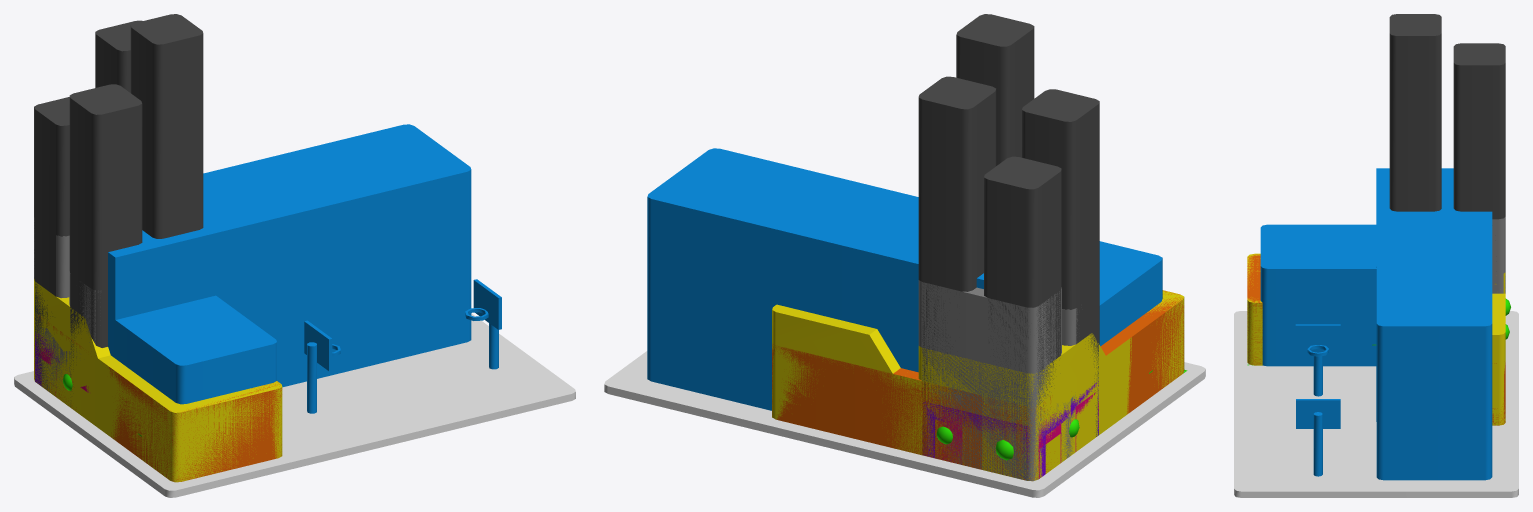
Rendered from Models.gltf.
The picture shows the model from 3 angles, left to right: view 1: azimuth 30°, elevation 25°; view 2: azimuth 150°, elevation 25°; view 3: azimuth 270°, elevation 25°; orthographic projection. The views are drawn at different scales.
Visible parts, largest first — view 1: School_2x3, Work_1x1, SCenter_1x2, RStore_1x2, Park_1x2, ABloc_1x1, GStore_1x1, APlex_1x1; view 2: School_2x3, Work_1x1, ABloc_1x1, SCenter_1x2, RStore_2x1, SCenter_2x1, RStore_1x2, GStore_1x1, Park_1x2, BStore_1x1, APlex_1x1, Park_1x1; view 3: School_2x3, Work_1x1, SCenter_1x2, SCenter_2x1, ABloc_1x1, Park_1x2, RStore_1x2, GStore_1x1.
Boxes of the visible parts, left/top/right/bottom form: School_2x3: left=14, top=124, right=575, bottom=497; Work_1x1: left=34, top=14, right=203, bottom=406; SCenter_1x2: left=18, top=279, right=301, bottom=496; RStore_1x2: left=34, top=315, right=282, bottom=481; Park_1x2: left=16, top=379, right=301, bottom=497; ABloc_1x1: left=34, top=218, right=100, bottom=438; GStore_1x1: left=14, top=332, right=88, bottom=429; APlex_1x1: left=16, top=327, right=76, bottom=409; School_2x3: left=604, top=148, right=1204, bottom=497; Work_1x1: left=918, top=14, right=1099, bottom=489; ABloc_1x1: left=918, top=280, right=1120, bottom=497; SCenter_1x2: left=918, top=290, right=1204, bottom=480; RStore_2x1: left=772, top=344, right=1051, bottom=466; SCenter_2x1: left=754, top=304, right=1051, bottom=487; RStore_1x2: left=922, top=290, right=1184, bottom=479; GStore_1x1: left=922, top=381, right=1098, bottom=497; Park_1x2: left=970, top=362, right=1205, bottom=487; BStore_1x1: left=928, top=392, right=1098, bottom=479; APlex_1x1: left=922, top=377, right=1098, bottom=492; Park_1x1: left=936, top=419, right=1079, bottom=489; School_2x3: left=1234, top=168, right=1518, bottom=497; Work_1x1: left=1389, top=14, right=1518, bottom=342; SCenter_1x2: left=1234, top=253, right=1510, bottom=370; SCenter_2x1: left=1492, top=293, right=1517, bottom=431; ABloc_1x1: left=1492, top=217, right=1518, bottom=370; Park_1x2: left=1234, top=311, right=1516, bottom=370; RStore_1x2: left=1247, top=254, right=1262, bottom=365; GStore_1x1: left=1505, top=311, right=1518, bottom=370.
Bounding box in the file's own units: 3 × 2.6 × 2.
